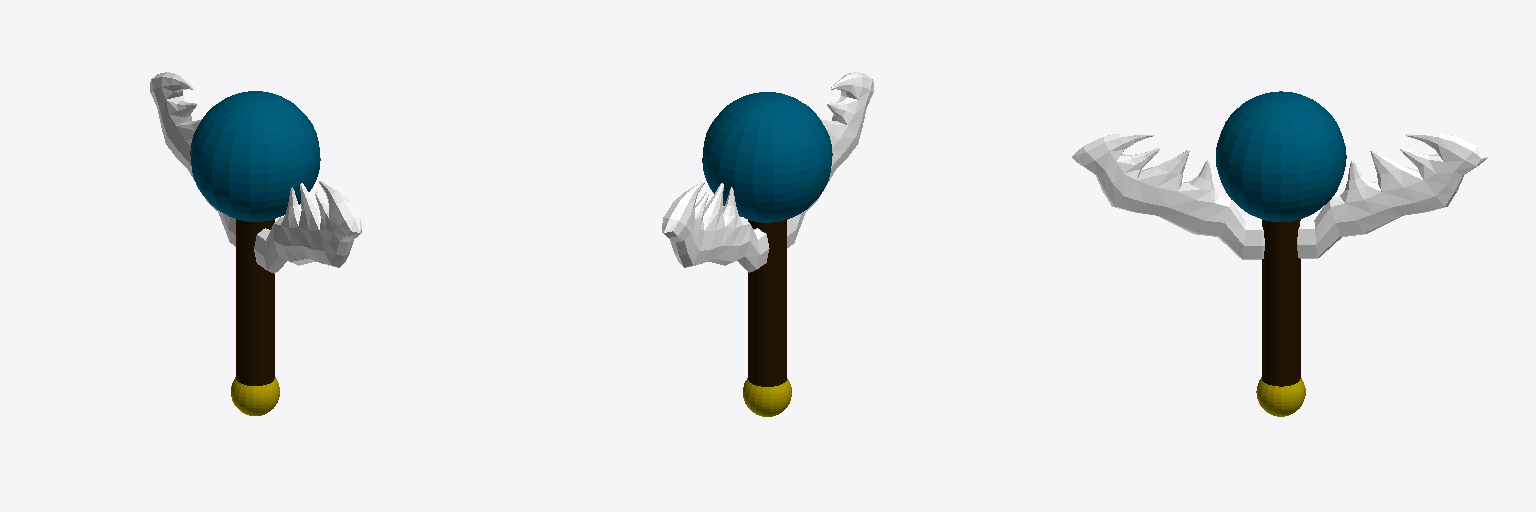
Rendered from staff.obj.
3 renders of one model, left to right at view 1: azimuth 30°, elevation 25°; view 2: azimuth 150°, elevation 25°; view 3: azimuth 270°, elevation 25°, orthographic.
Visible parts, largest first — view 1: pSphere2, pasted__pCube1 group, pCylinder1, pCube1, pSphere1; view 2: pSphere2, pCube1, pCylinder1, pasted__pCube1 group, pSphere1; view 3: pSphere2, pasted__pCube1 group, pCube1, pCylinder1, pSphere1.
Part boxes in pixels (x1,y1,x2,y2): pSphere2: (190,91,320,221); pasted__pCube1 group: (254,181,361,273); pCylinder1: (236,219,274,385); pCube1: (150,72,235,246); pSphere1: (231,377,279,415); pSphere2: (702,92,832,222); pCube1: (662,181,769,272); pCylinder1: (748,220,786,386); pasted__pCube1 group: (787,72,873,247); pSphere1: (743,378,791,416); pSphere2: (1216,91,1346,221); pasted__pCube1 group: (1072,133,1264,259); pCube1: (1297,133,1487,258); pCylinder1: (1262,219,1300,386); pSphere1: (1256,377,1305,416).
Bounding box in the file's own units: 1.66 × 4.43 × 5.28.